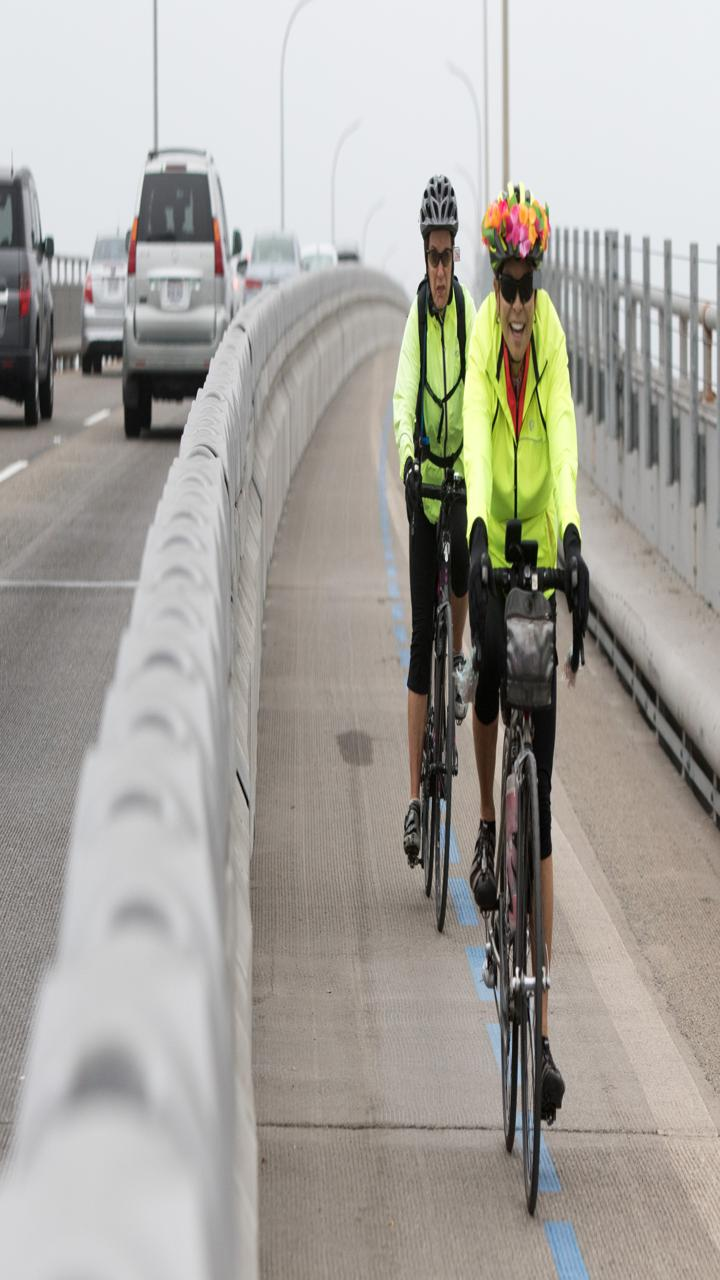bicycle: (466, 559, 590, 1219), (376, 481, 476, 949)
cyclist: (466, 203, 616, 591), (372, 167, 522, 555)
vehicle: (116, 141, 258, 433), (1, 155, 74, 437)
